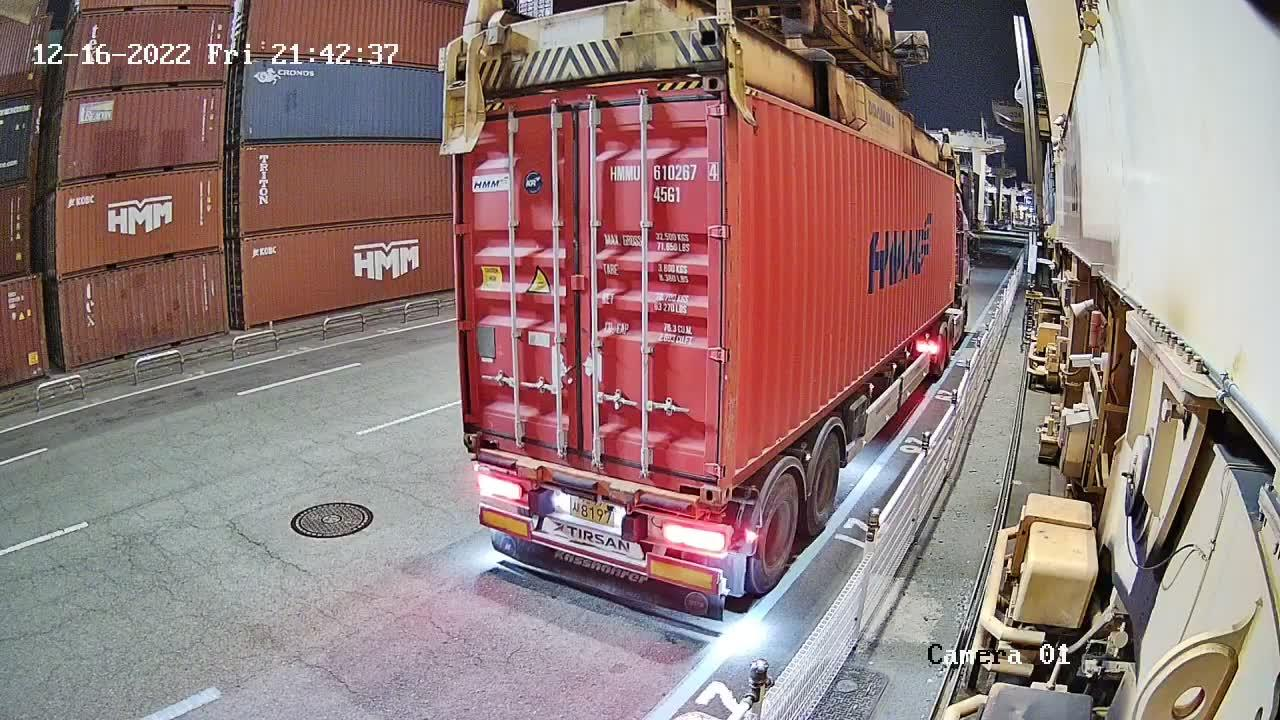Chassis: (478, 454, 731, 560)
Hole_L: (722, 439, 760, 507), (462, 408, 505, 454)
Hole_R: (666, 442, 723, 507)
Tire: (753, 479, 798, 588), (808, 436, 841, 530)
